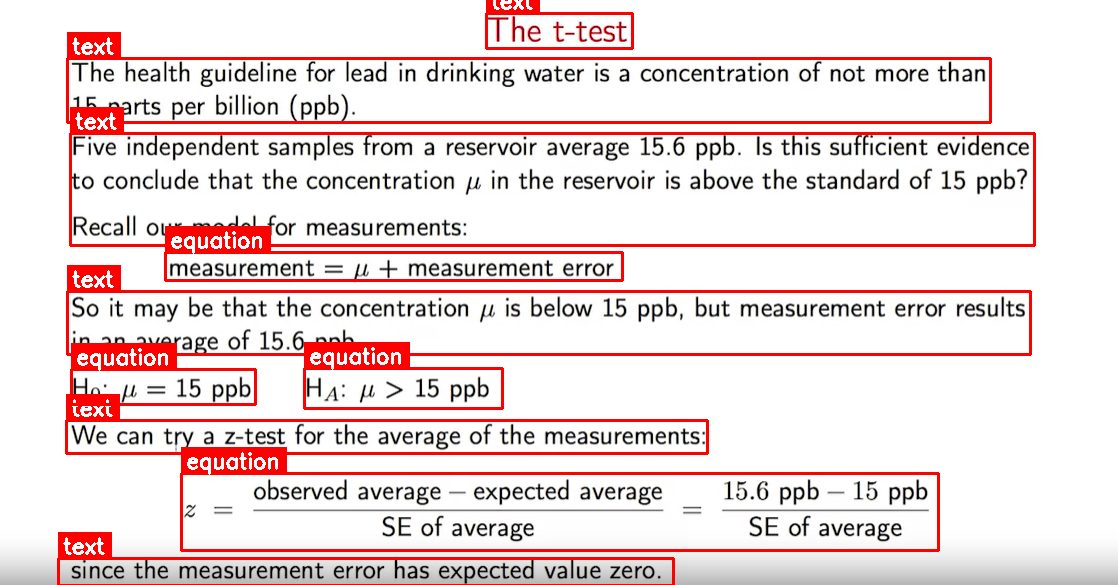equation: (181, 473, 938, 550), (165, 252, 622, 280), (304, 368, 502, 408), (71, 369, 255, 404)
text: (70, 133, 1034, 245), (67, 291, 1030, 354), (67, 58, 990, 122), (66, 420, 707, 453), (58, 558, 673, 585), (486, 13, 632, 48)
